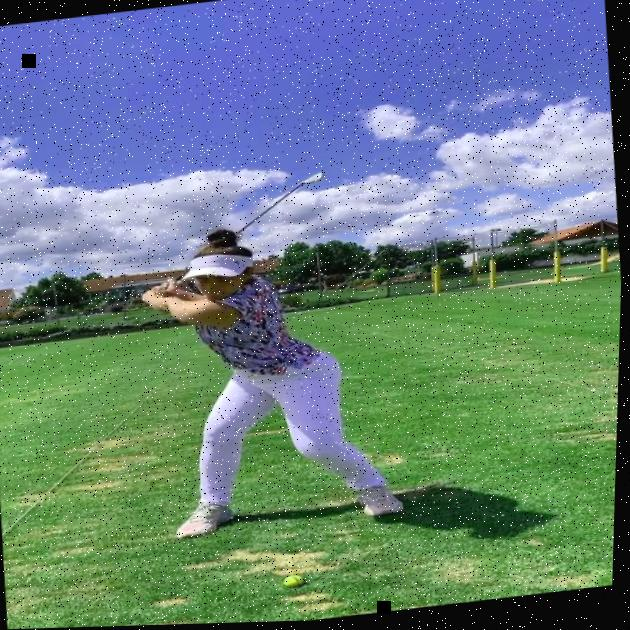ClubHead: (305, 173, 324, 189)
GolfBall: (283, 573, 314, 593)
